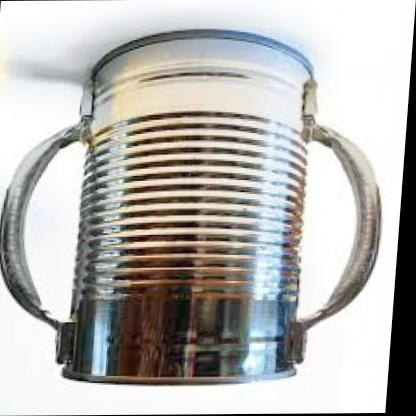trash: (0, 29, 380, 383), (23, 140, 88, 322), (295, 140, 356, 320)
